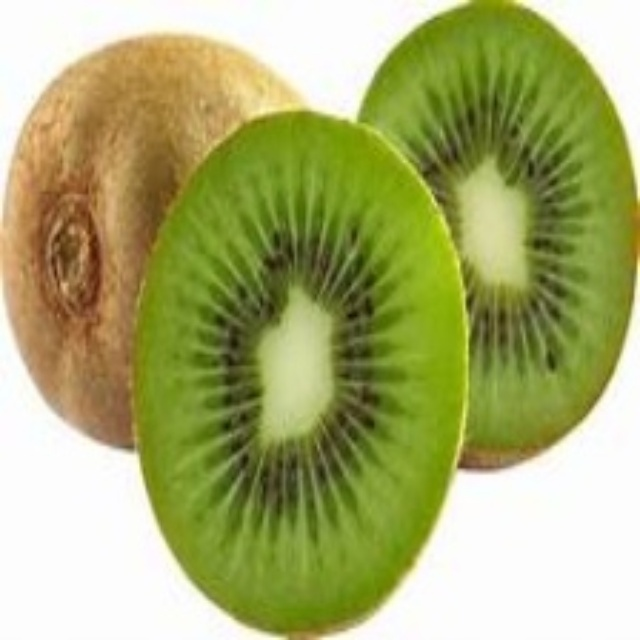kiwi: (142, 108, 448, 638), (9, 30, 324, 455), (360, 2, 632, 470)
